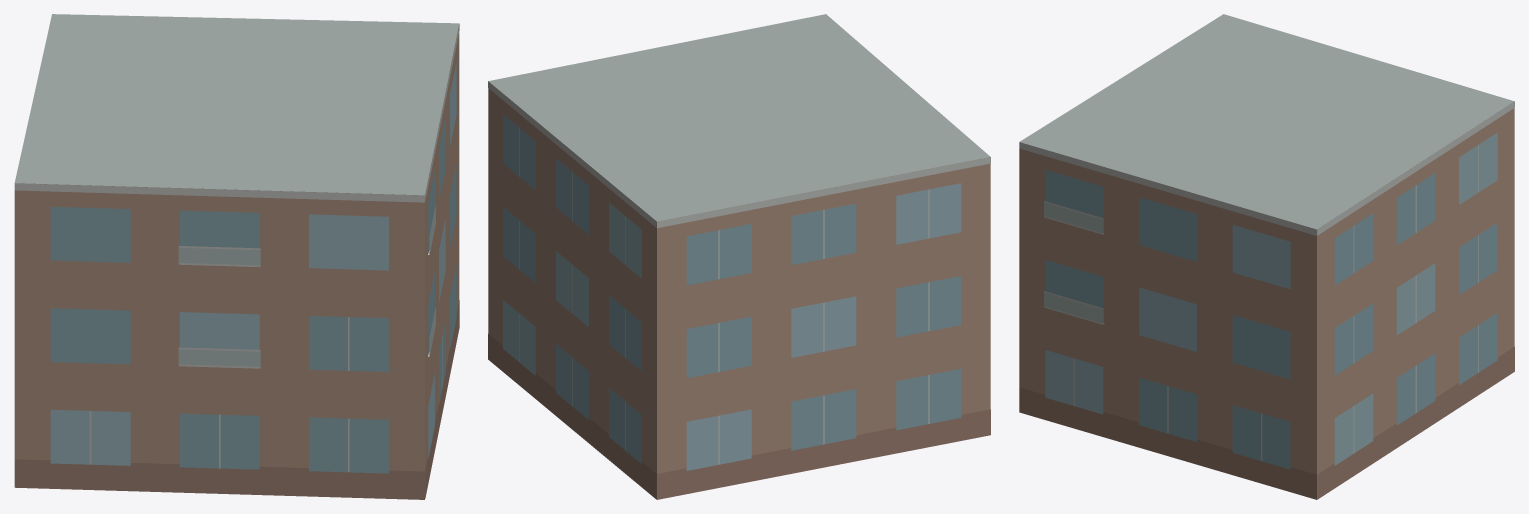
The model's file is survey-upis-32780052.glb.
The picture shows the model from 3 angles, left to right: view 1: azimuth 30°, elevation 25°; view 2: azimuth 150°, elevation 25°; view 3: azimuth 270°, elevation 25°; orthographic projection. The views are drawn at different scales.
Visible parts, largest first — view 1: survey-upis-32780052.tmp; view 2: survey-upis-32780052.tmp; view 3: survey-upis-32780052.tmp.
Boxes of the visible parts, bbox=[...] form: survey-upis-32780052.tmp: bbox=[14, 14, 459, 499]; survey-upis-32780052.tmp: bbox=[488, 14, 990, 499]; survey-upis-32780052.tmp: bbox=[1019, 14, 1514, 499].
Bounding box in the file's own units: 17.44 × 10.2 × 16.95.
